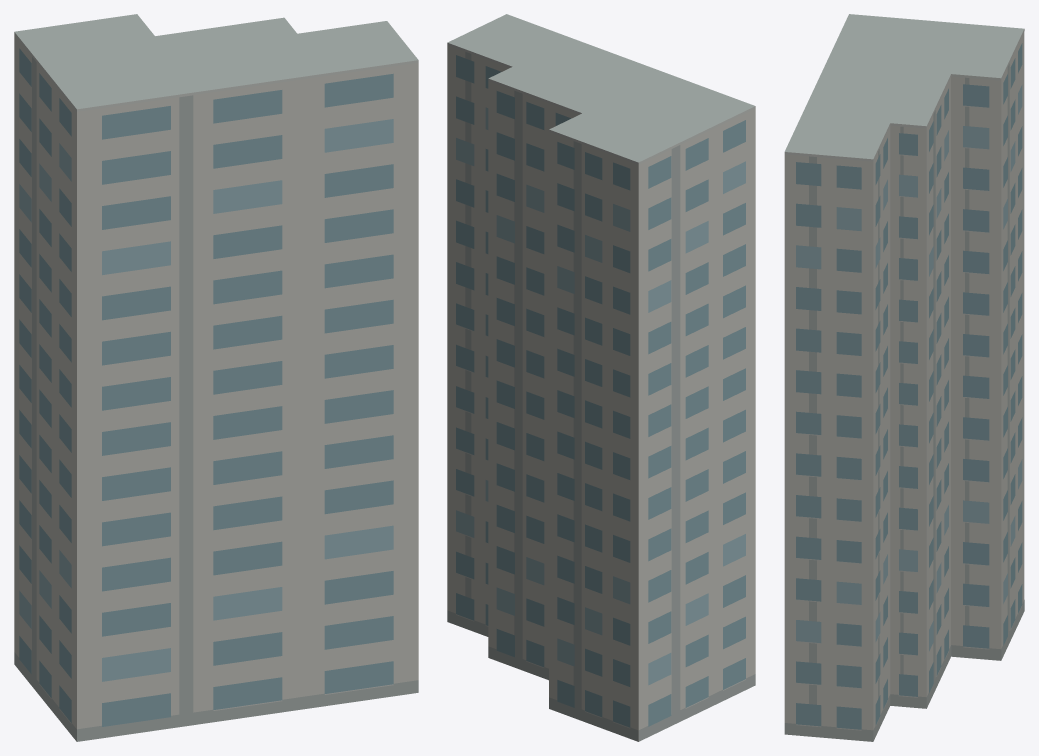
File: residential-9d621748-6064-4801-9055-216f6c1dbd39.glb
The picture shows the model from 3 angles, left to right: view 1: azimuth 30°, elevation 25°; view 2: azimuth 150°, elevation 25°; view 3: azimuth 270°, elevation 25°; orthographic projection. The views are drawn at different scales.
Visible parts, largest first — view 1: residential-9d621748-6064-4801-9055-216f6c1dbd39.tmp; view 2: residential-9d621748-6064-4801-9055-216f6c1dbd39.tmp; view 3: residential-9d621748-6064-4801-9055-216f6c1dbd39.tmp.
Boxes of the visible parts, x1,y1,x2,y2 form: residential-9d621748-6064-4801-9055-216f6c1dbd39.tmp: [14, 14, 418, 741]; residential-9d621748-6064-4801-9055-216f6c1dbd39.tmp: [447, 14, 755, 741]; residential-9d621748-6064-4801-9055-216f6c1dbd39.tmp: [784, 14, 1024, 741].
Bounding box in the file's own units: 30.5 × 57 × 21.28.
